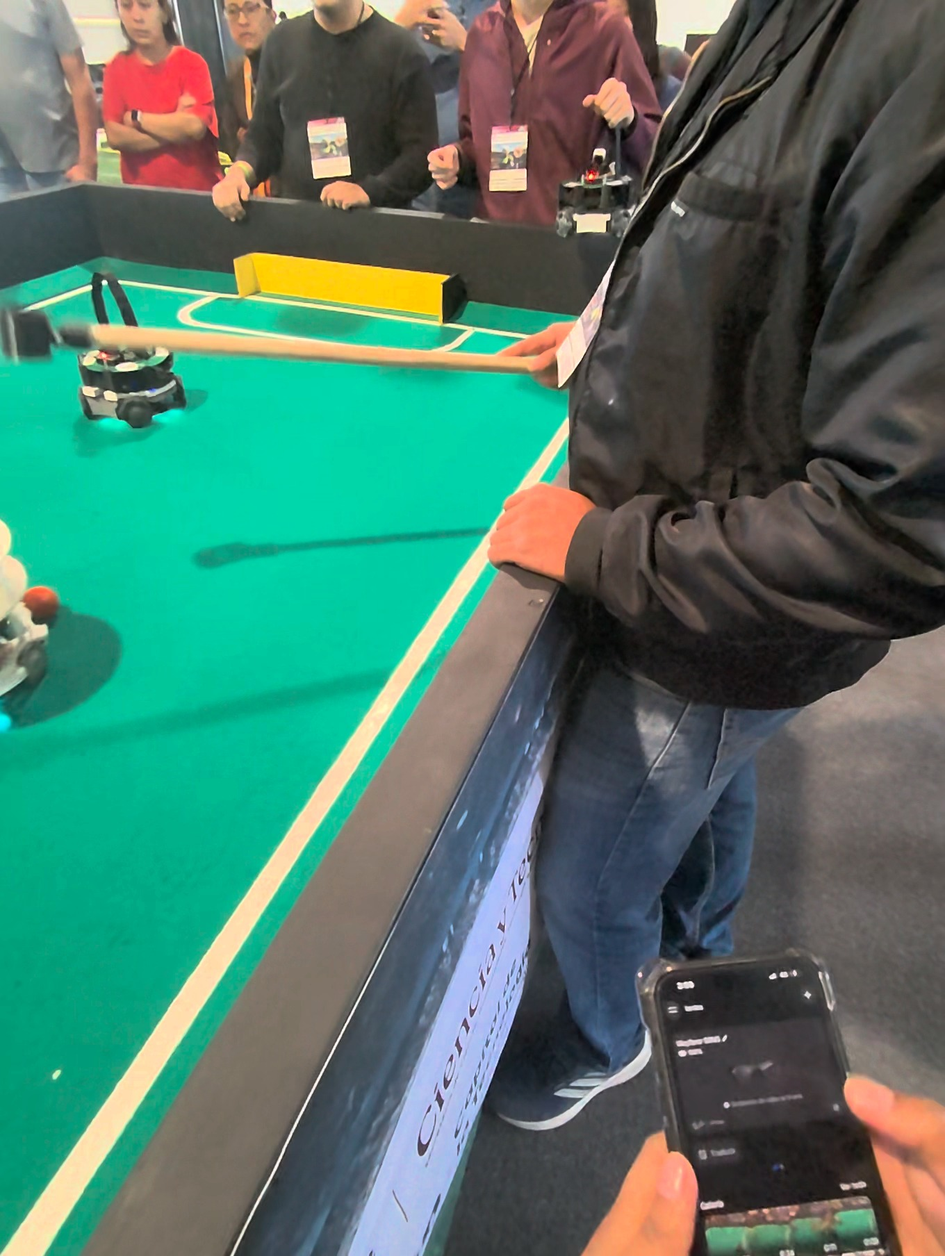Robot: (72, 267, 193, 462), (0, 512, 49, 762)
pelota: (18, 580, 86, 630)
